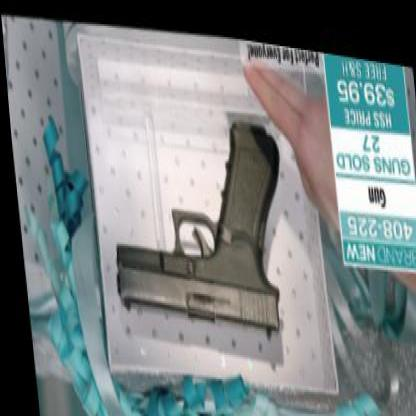pistol: (98, 96, 292, 340)
